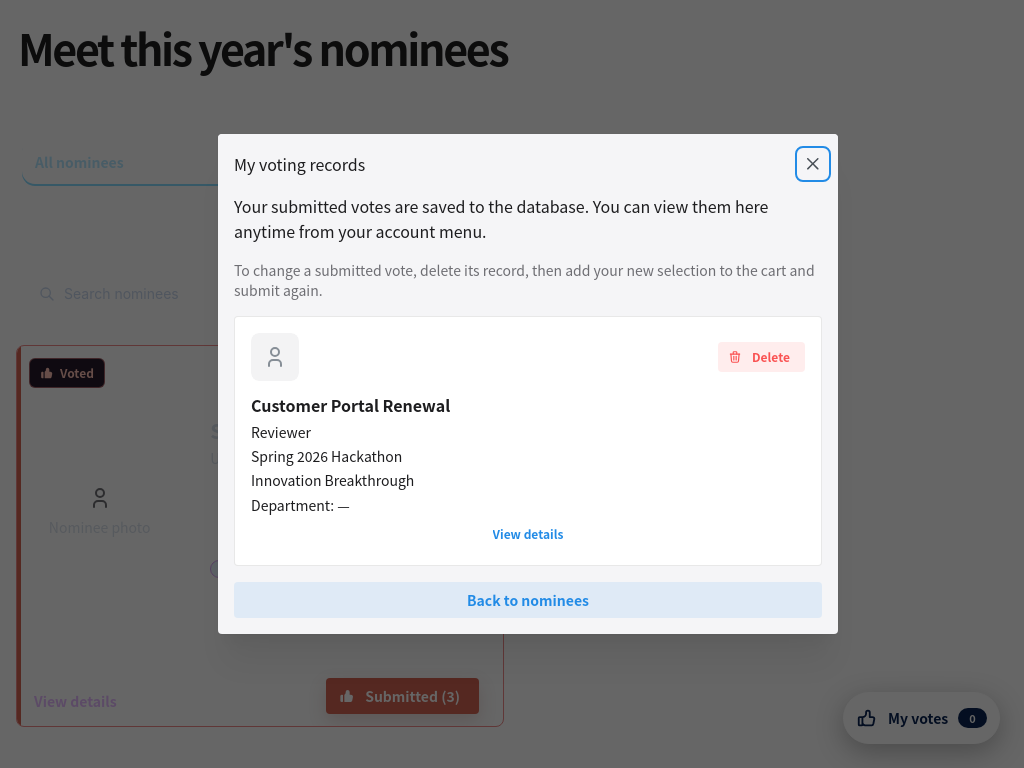
Test: ProjectShowcase › loads submitted records through the account link with an empty cart
The image size is (1024, 768).
Expected: the text "Customer Portal Renewal" is shown, [251,393,450,417]
Click the button "Back to nominees": (528, 600) [234,582,822,618]
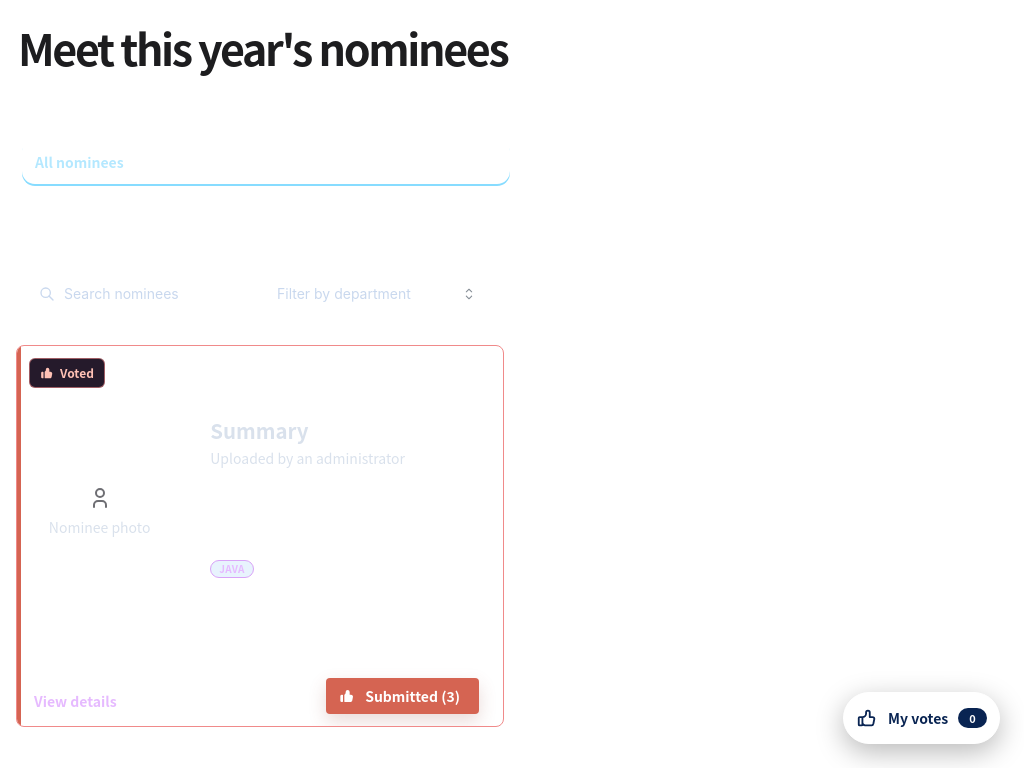
Expected: the button with aria-label "My votes (0)" is shown, [843,692,1000,744]
Click the button with aria-label "Submitted, 3 votes": (403, 696) [326,678,479,714]
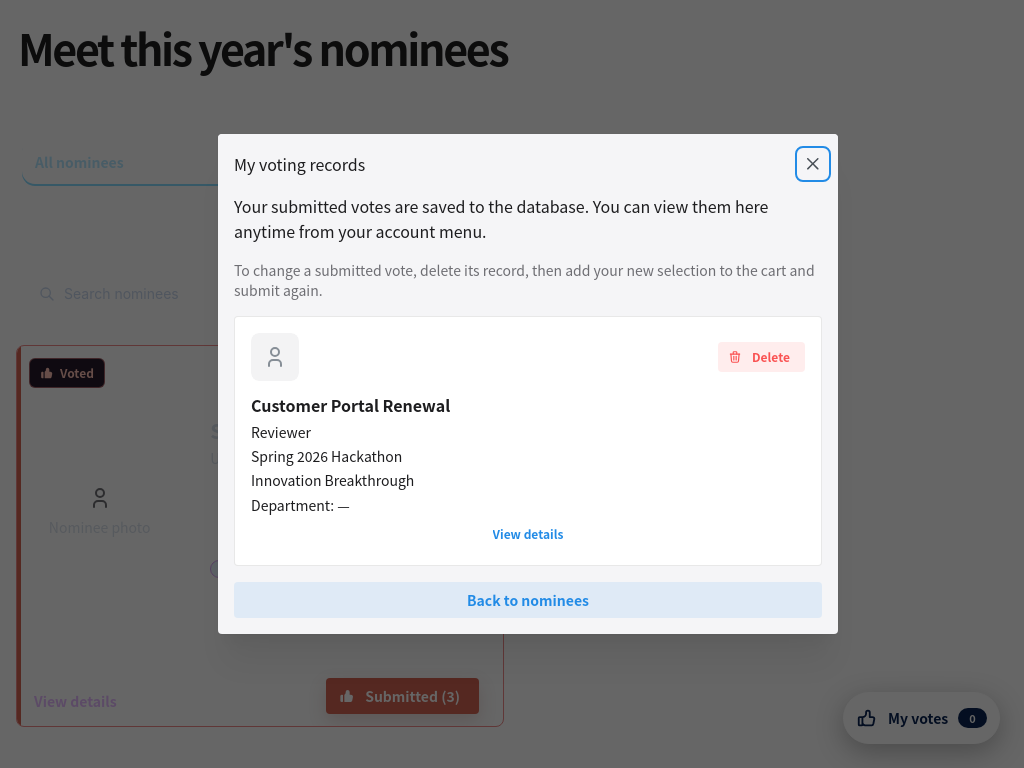
Expected: the dialog "My voting records" is shown, [218,134,838,634]
